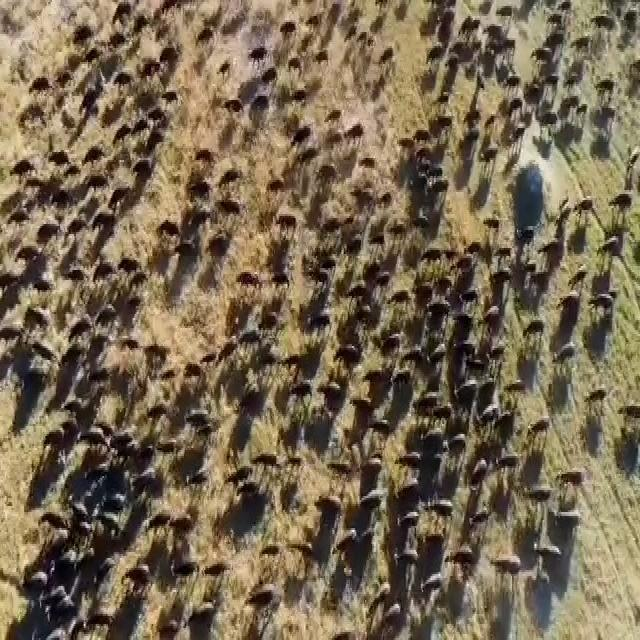Buffalo: (267, 192, 298, 300), (320, 316, 370, 381), (44, 539, 80, 610), (178, 230, 226, 272), (424, 324, 454, 386), (229, 263, 266, 309), (180, 400, 214, 448), (328, 535, 368, 575), (170, 459, 212, 497), (447, 550, 487, 589), (75, 419, 114, 455), (545, 334, 596, 360), (77, 140, 111, 178), (85, 347, 110, 398), (360, 452, 390, 494), (376, 390, 397, 450), (597, 220, 627, 262), (83, 194, 112, 236), (556, 460, 589, 496), (379, 578, 401, 624), (72, 312, 105, 342), (14, 239, 42, 274), (554, 500, 584, 532), (254, 447, 284, 479), (609, 178, 633, 218), (524, 323, 557, 352), (581, 384, 606, 420), (154, 210, 174, 253), (330, 429, 346, 482), (228, 456, 248, 496), (254, 579, 272, 622), (251, 88, 271, 125), (621, 382, 640, 420), (390, 447, 419, 470), (289, 51, 308, 86), (589, 282, 617, 305), (25, 302, 46, 331), (216, 345, 237, 374), (224, 85, 243, 117), (311, 488, 332, 514), (39, 222, 60, 248), (114, 115, 128, 154), (292, 380, 311, 405), (196, 346, 212, 374), (482, 297, 498, 325), (523, 482, 547, 498), (112, 183, 127, 208)
